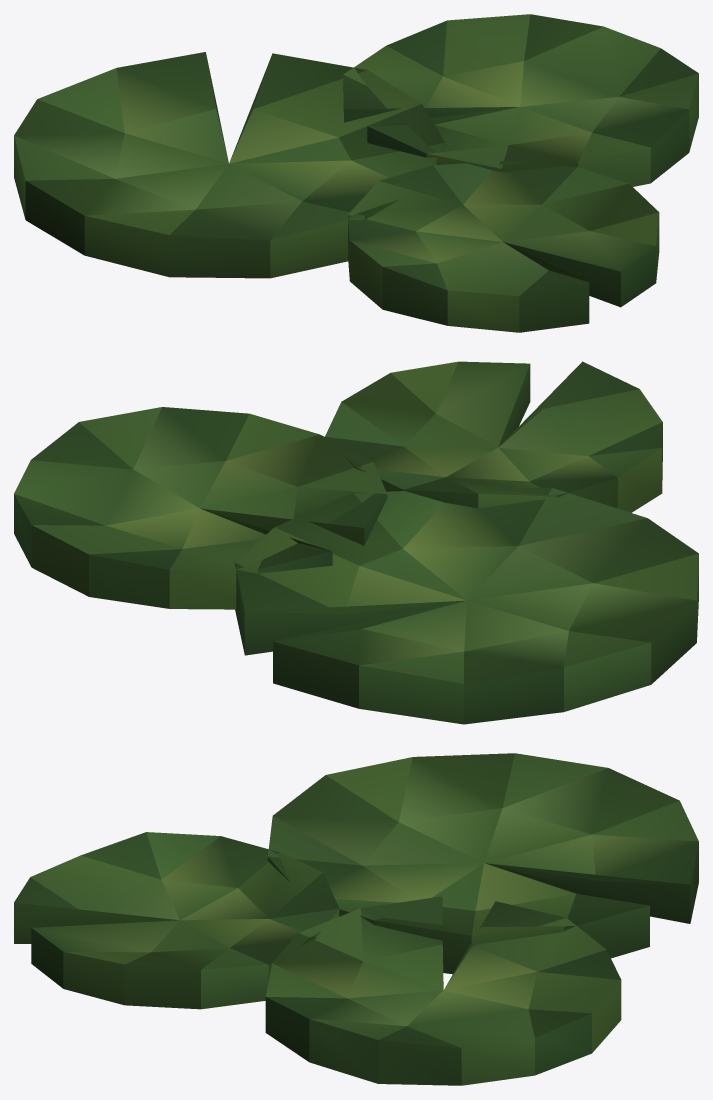
File: lily-pad-3.low.glb
3 renders of one model, top to bottom at view 1: azimuth 30°, elevation 25°; view 2: azimuth 150°, elevation 25°; view 3: azimuth 270°, elevation 25°, orthographic. The views are drawn at different scales.
Parts seen in each view (by area): view 1: lily-pad-3; view 2: lily-pad-3; view 3: lily-pad-3.
Boxes of the visible parts, box(x1,y1,x2,y2) form: lily-pad-3: box(14, 14, 698, 332); lily-pad-3: box(14, 361, 698, 724); lily-pad-3: box(14, 753, 698, 1085).
Bounding box in the file's own units: 0.6964 × 0.0537 × 0.6759.
